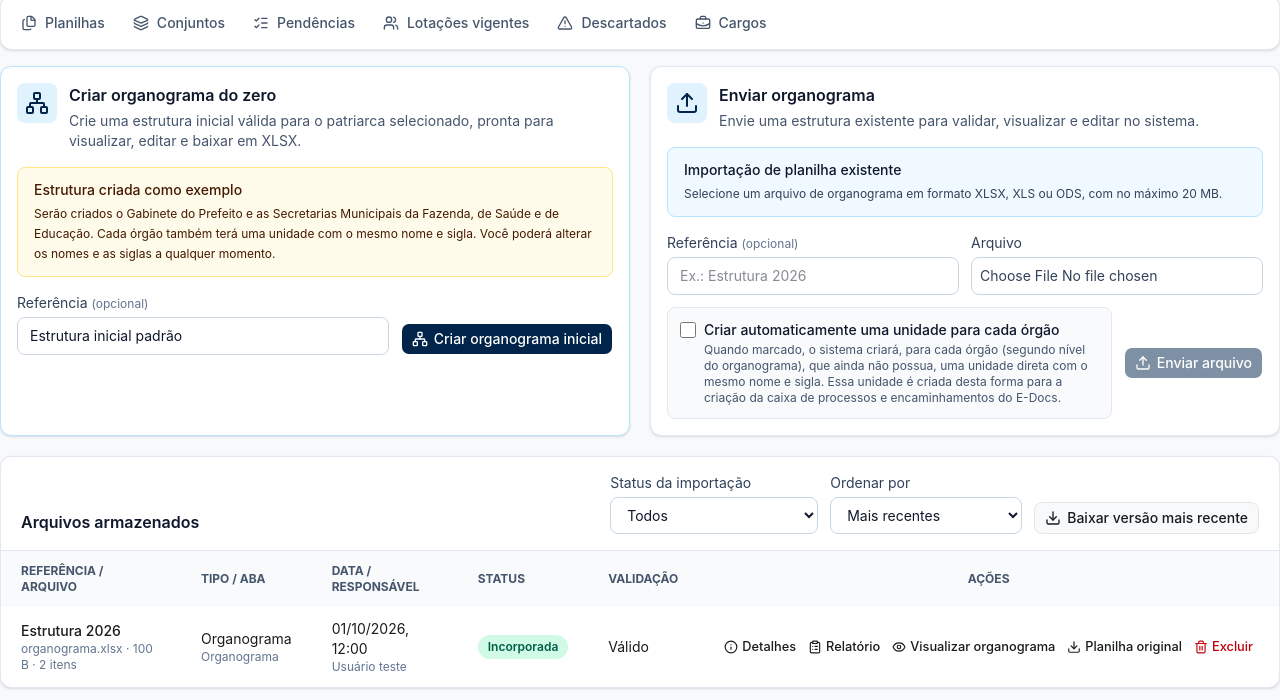
Test: telas de importação › mostra o download mais recente somente quando existe organograma
This screenshot has width=1280, height=700.
(page scrolled)
Expected: the button "Baixar versão mais recente" is shown, [1034, 502, 1259, 534]
Step 1. Click the button "Visualizar organograma" → (974, 647), box [886, 633, 1061, 661]
(page scrolled)
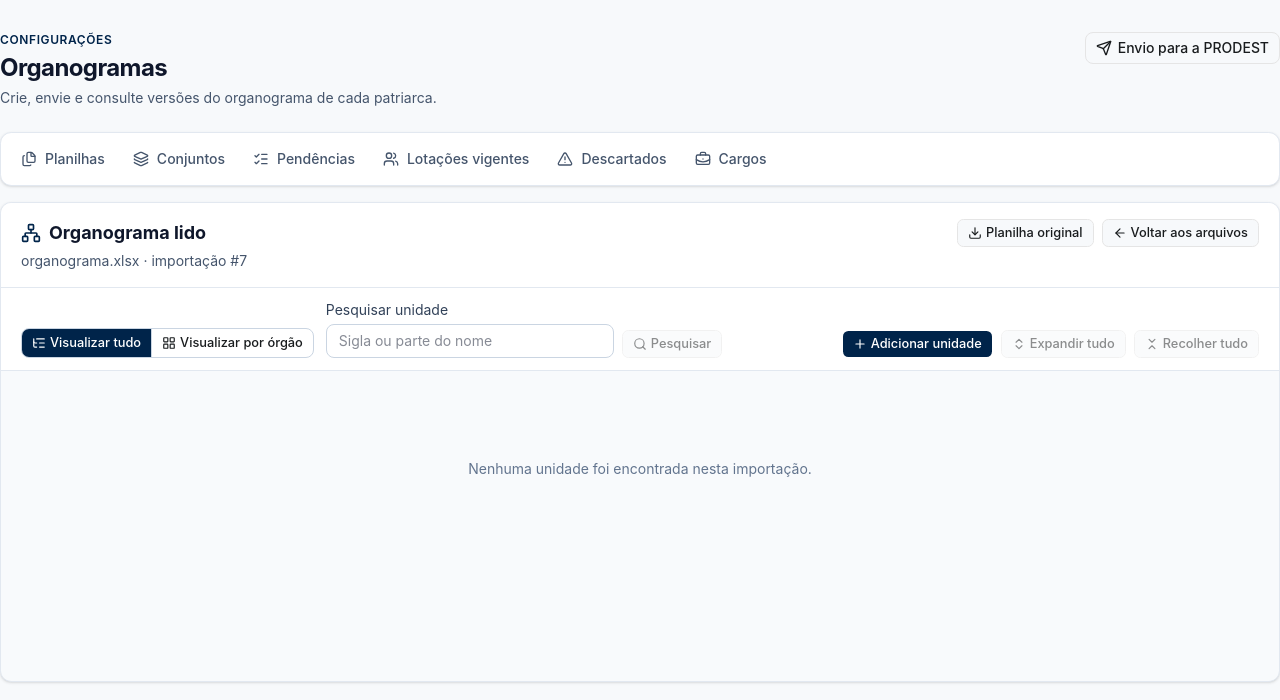
Now the element "Organograma lido" is shown
Now the heading "Arquivos armazenados" is gone
Step 2. Click the button with aria-label "Voltar à lista de arquivos" → (1180, 233), box [1102, 219, 1259, 247]
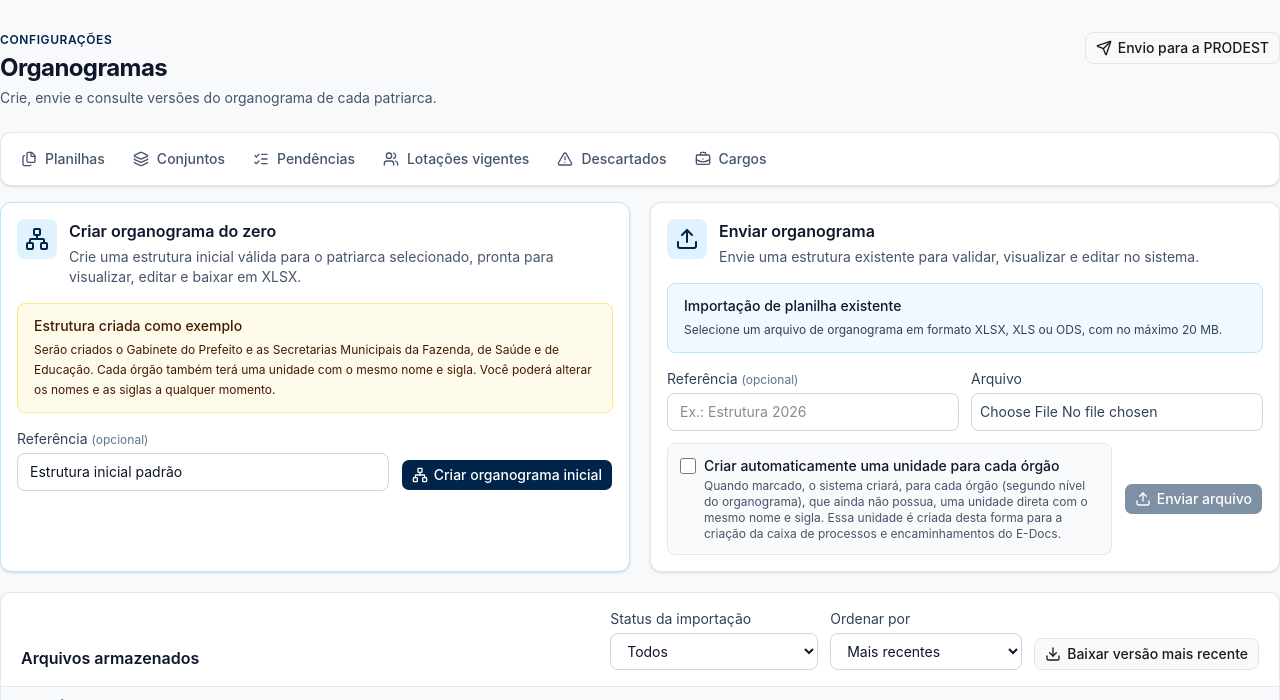
Now the heading "Arquivos armazenados" is shown, box [21, 646, 199, 670]
